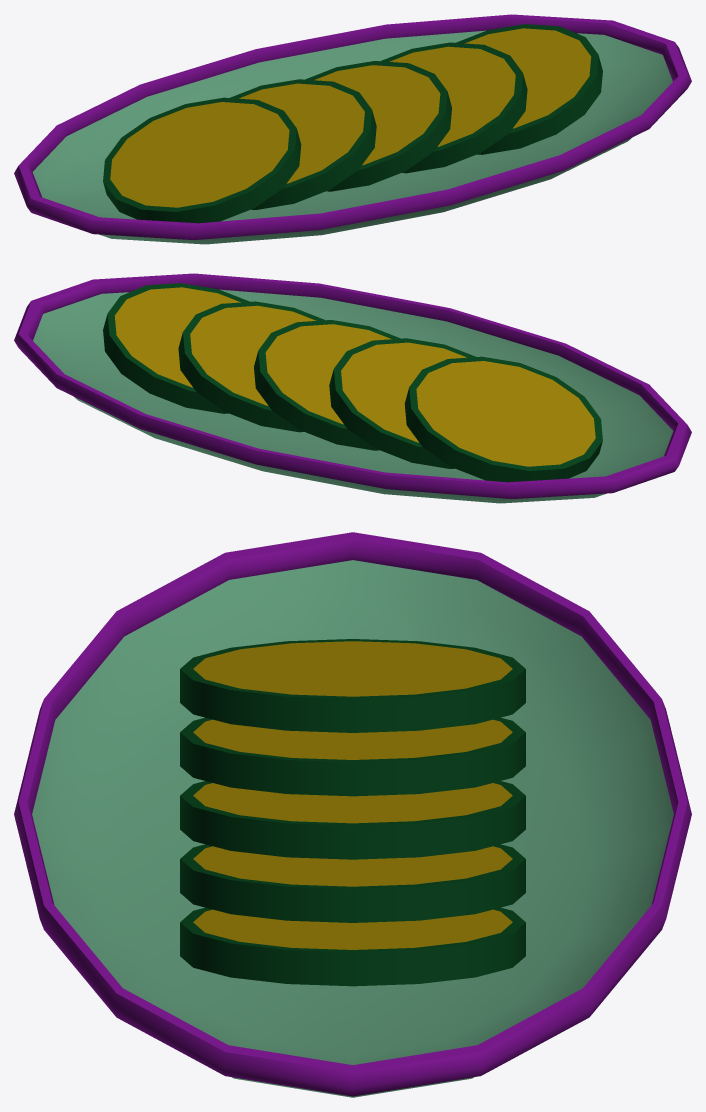
File: Aehobak jeon.fbx
3 renders of one model, top to bottom at view 1: azimuth 30°, elevation 25°; view 2: azimuth 150°, elevation 25°; view 3: azimuth 270°, elevation 25°, orthographic. The views are drawn at different scales.
Parts seen in each view (by area): view 1: Aehobak jeon; view 2: Aehobak jeon; view 3: Aehobak jeon.
Part boxes in pixels (x1,y1,x2,y2): Aehobak jeon: [14, 14, 691, 244]; Aehobak jeon: [14, 273, 691, 503]; Aehobak jeon: [14, 532, 691, 1097].
Size of the model in its own units: 56.98 by 29.82 by 6.67.
